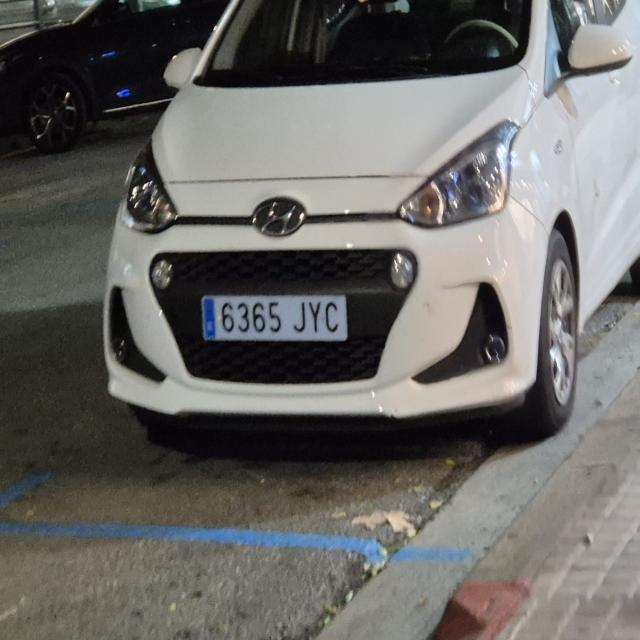license_plate-34Td: (201, 295, 348, 341)
